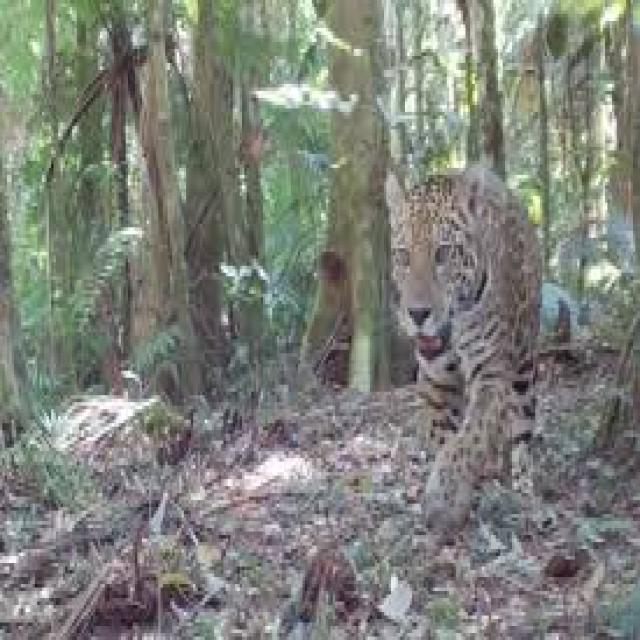Jaguar: (384, 154, 549, 517)
